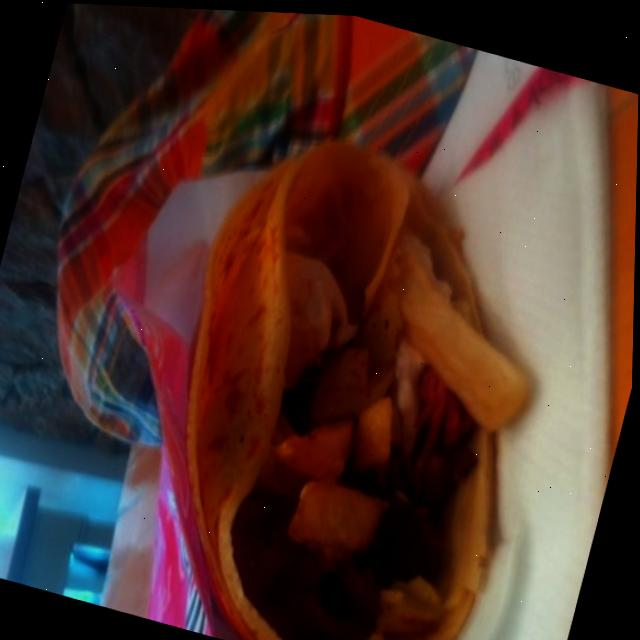刺身生食: (0, 29, 639, 640)
